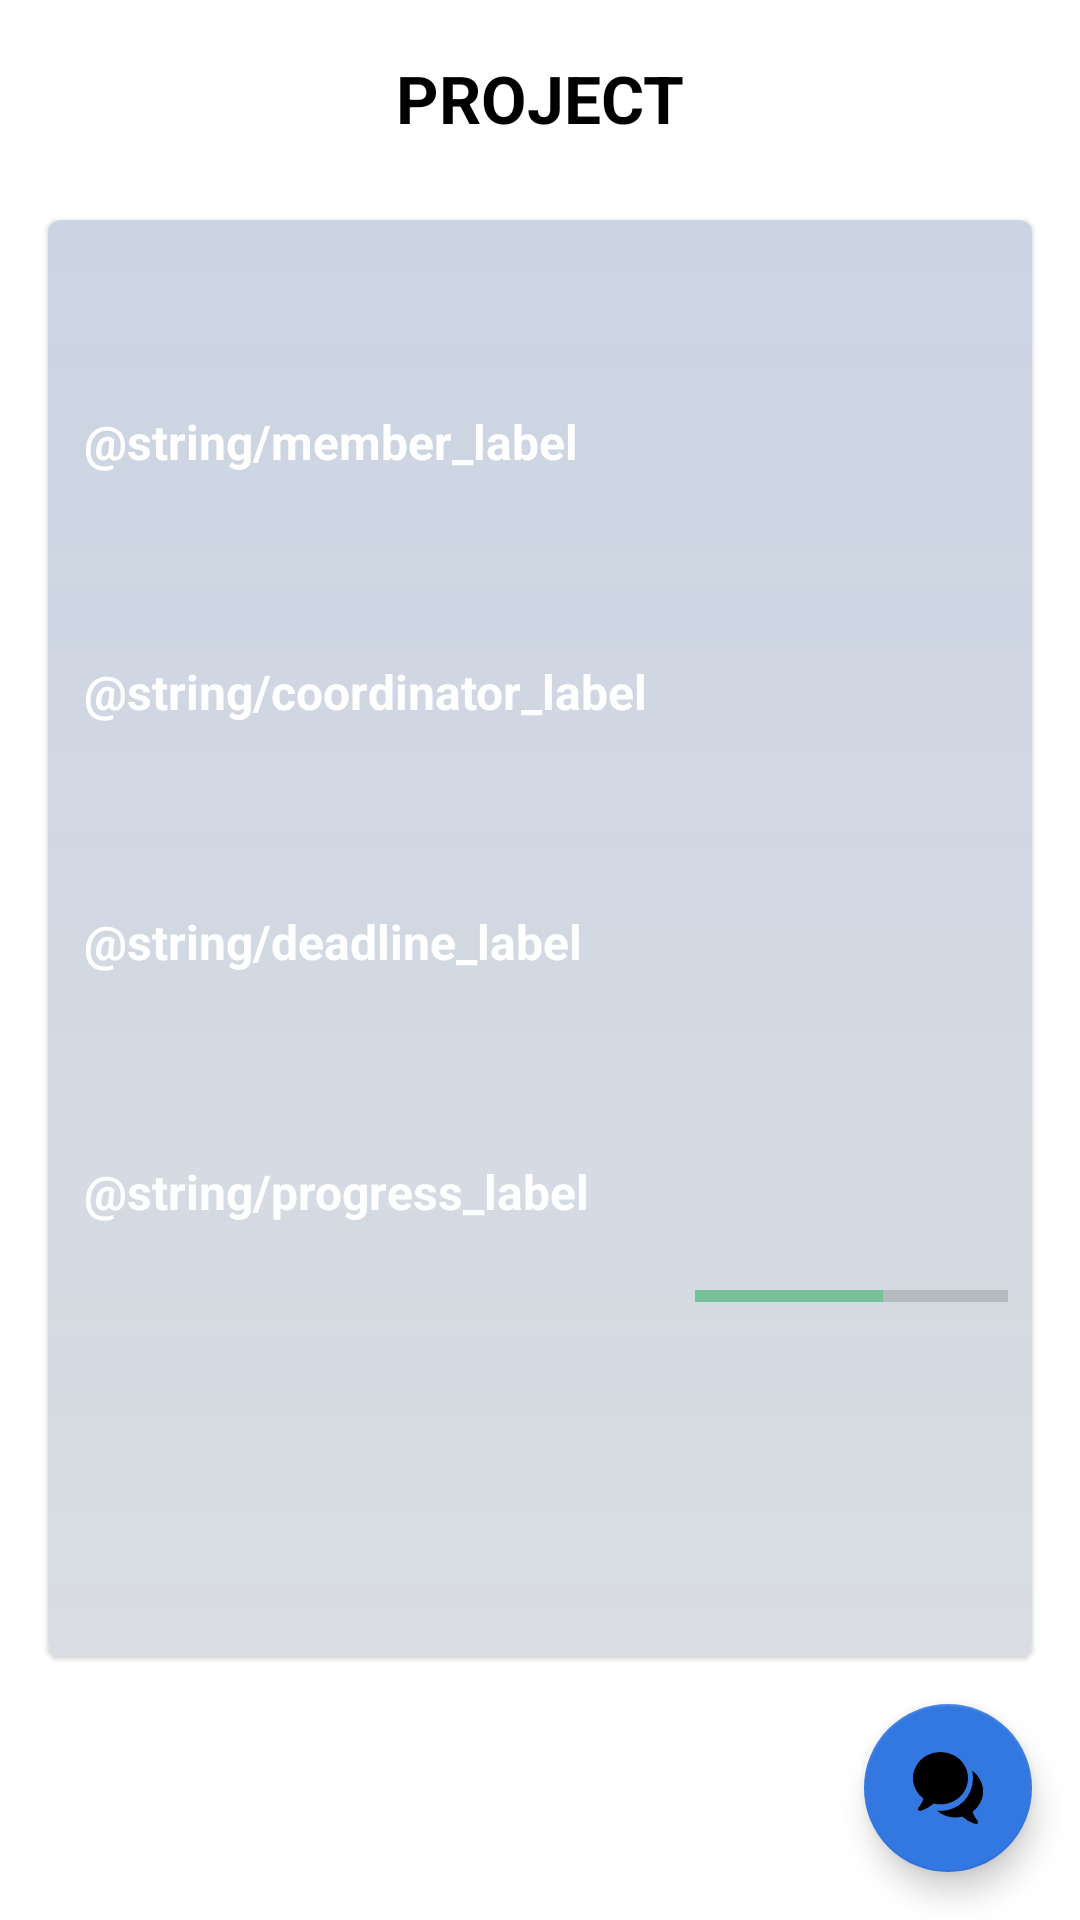

Screen size 1080x1920. Icon name, then its center in pixels as [x,y]:
chat: [948,1788]
